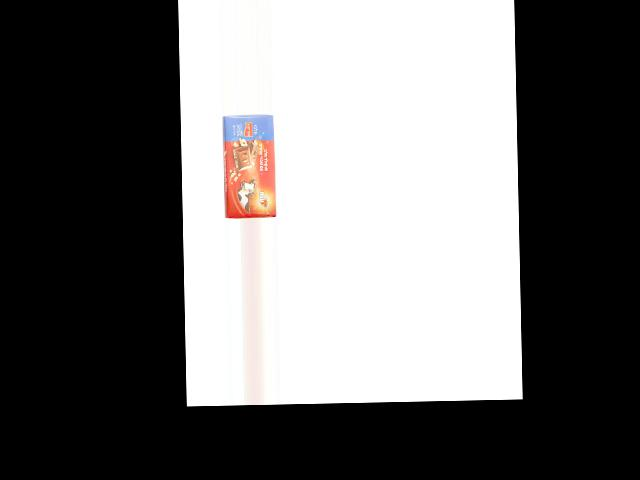chocolate: (218, 115, 275, 218)
